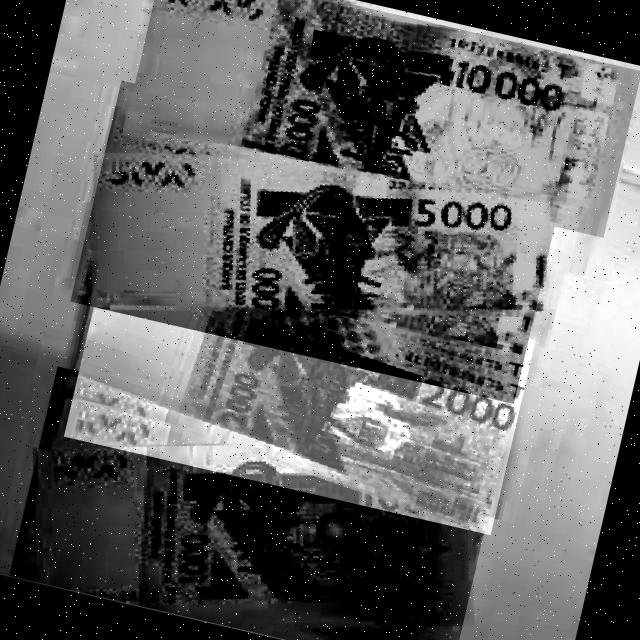junni: (92, 152, 551, 309)
niaar junni: (125, 0, 633, 203)
niaar teemeer: (36, 446, 472, 627)
nient teemeer: (78, 244, 521, 531)
